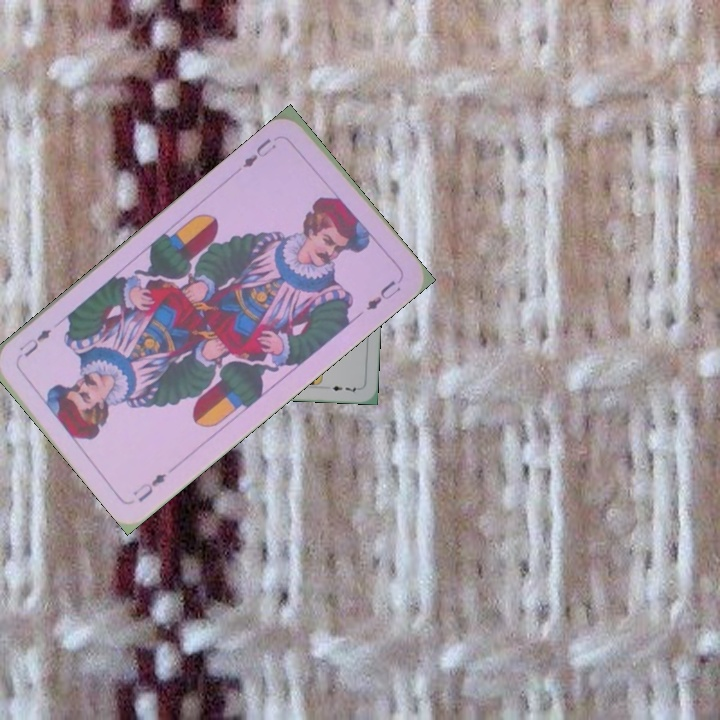EU: (239, 133, 279, 171), (128, 469, 169, 505)
